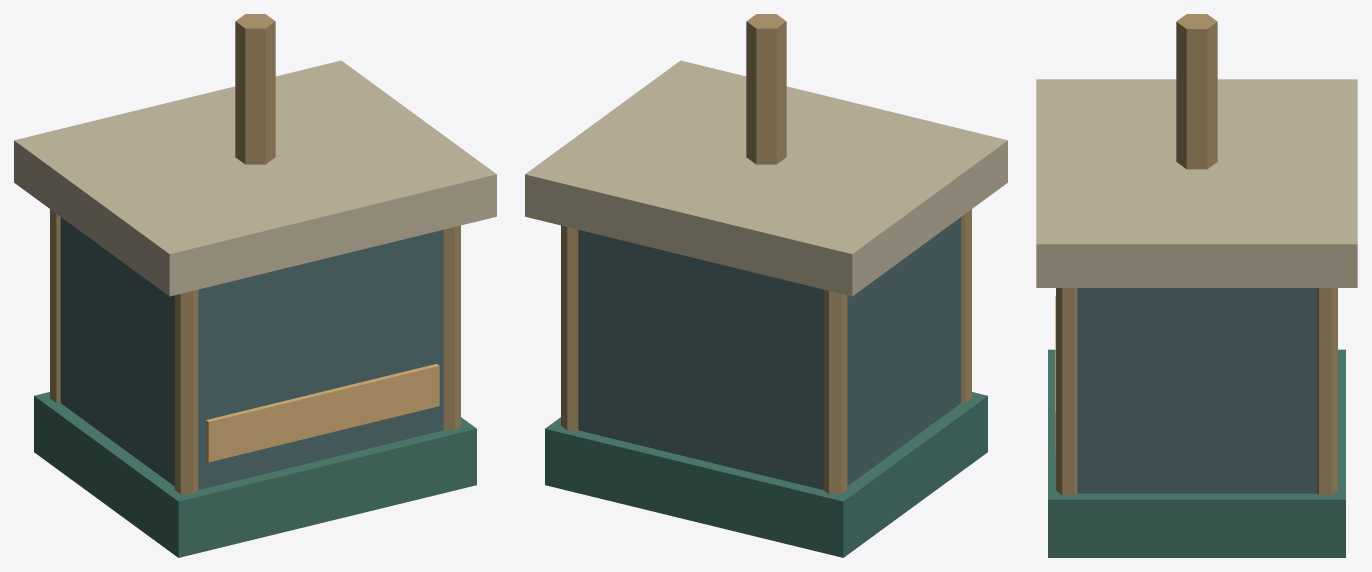
Rendered from tpe5_miramar_gondola.glb.
The picture shows the model from 3 angles, left to right: view 1: azimuth 30°, elevation 25°; view 2: azimuth 150°, elevation 25°; view 3: azimuth 270°, elevation 25°; orthographic projection. The views are drawn at different scales.
Parts seen in each view (by area): view 1: tpe5_miramar_gondola__tpe5-gondola-vertex-palette; view 2: tpe5_miramar_gondola__tpe5-gondola-vertex-palette; view 3: tpe5_miramar_gondola__tpe5-gondola-vertex-palette.
Part boxes in pixels (<box>): tpe5_miramar_gondola__tpe5-gondola-vertex-palette: <box>14,14,496,557</box>; tpe5_miramar_gondola__tpe5-gondola-vertex-palette: <box>525,14,1007,557</box>; tpe5_miramar_gondola__tpe5-gondola-vertex-palette: <box>1036,14,1357,557</box>.
Size of the model in its own units: 1.7 by 2.22 by 1.4.
